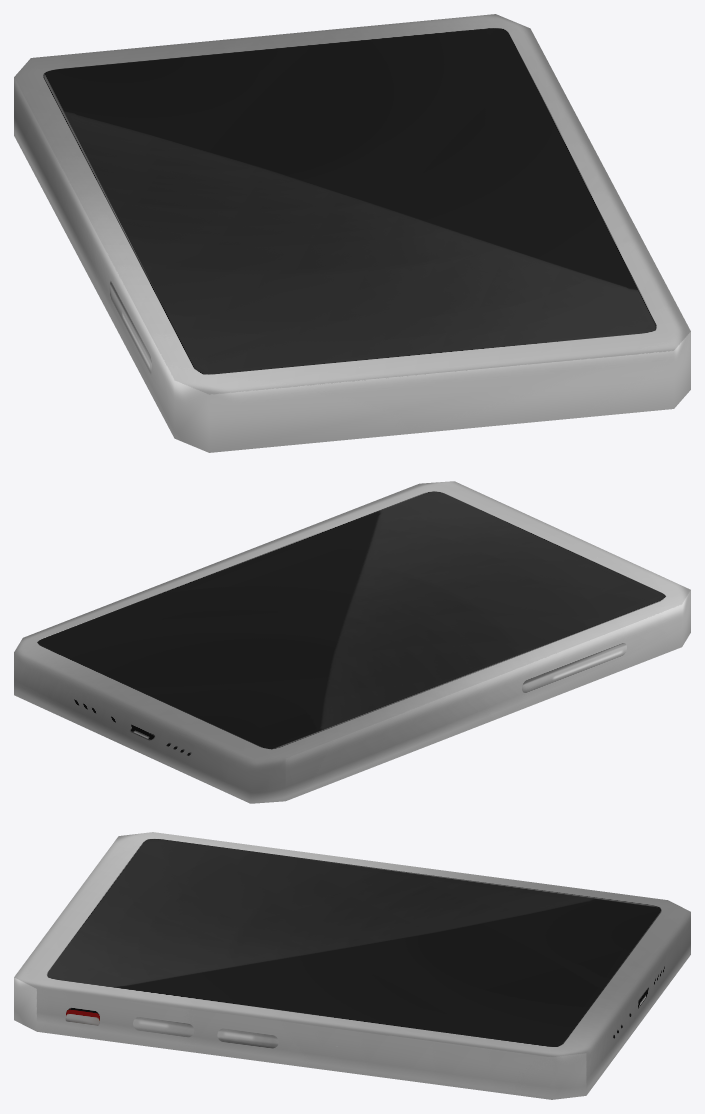
File: 5_4_Phone.gltf
3 renders of one model, top to bottom at view 1: azimuth 30°, elevation 25°; view 2: azimuth 150°, elevation 25°; view 3: azimuth 270°, elevation 25°, orthographic. The views are drawn at different scales.
Visible parts, largest first — view 1: Cube.019; view 2: Cube.019; view 3: Cube.019.
Boxes of the visible parts, bbox=[...] form: Cube.019: bbox=[14, 14, 690, 452]; Cube.019: bbox=[14, 481, 690, 803]; Cube.019: bbox=[14, 832, 690, 1099].
Size of the model in its own units: 1.37 by 0.1266 by 1.74.
1 material, 1 textured.
